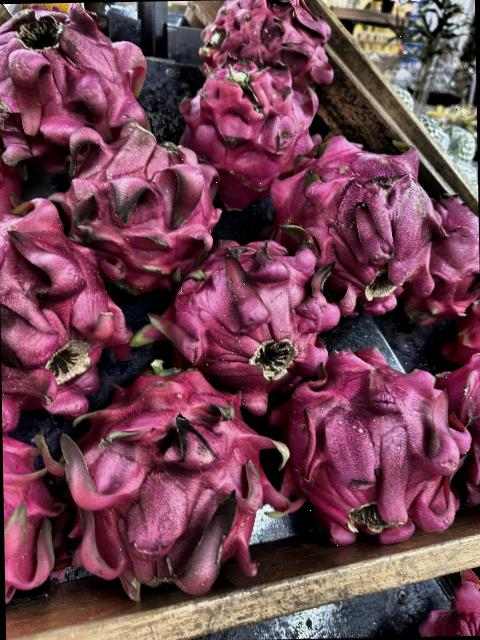buah-naga-matang: (60, 352, 275, 591), (274, 331, 474, 540), (160, 225, 346, 392), (276, 131, 432, 313), (0, 199, 126, 423), (49, 118, 216, 276), (0, 2, 147, 162), (172, 52, 318, 204), (195, 0, 335, 88), (2, 427, 63, 596), (417, 178, 480, 329)
